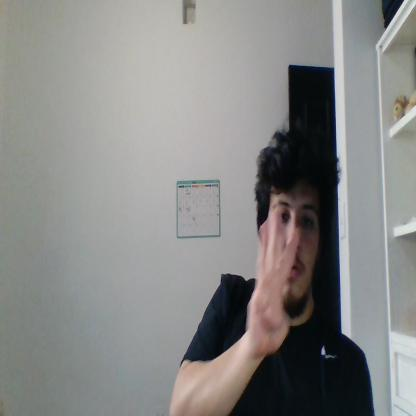W: (248, 207, 300, 353)
